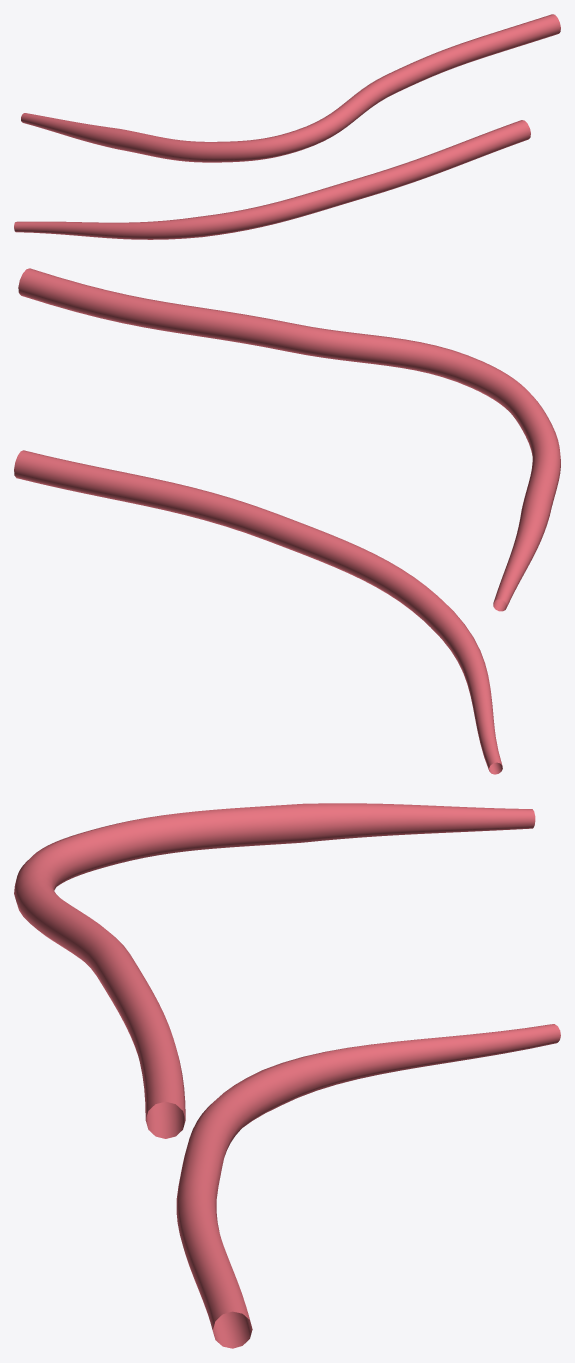
The picture shows the model from 3 angles, top to bottom: view 1: azimuth 30°, elevation 25°; view 2: azimuth 150°, elevation 25°; view 3: azimuth 270°, elevation 25°; orthographic projection. The views are drawn at different scales.
Parts seen in each view (by area): view 1: ZA_095a14395cda97e0; view 2: ZA_095a14395cda97e0; view 3: ZA_095a14395cda97e0.
Part boxes in pixels (x1,y1,x2,y2): ZA_095a14395cda97e0: (14,14,560,239); ZA_095a14395cda97e0: (14,268,560,774); ZA_095a14395cda97e0: (14,803,560,1348).
Size of the model in its own units: 0.00986 by 0.0039 by 0.00546.
